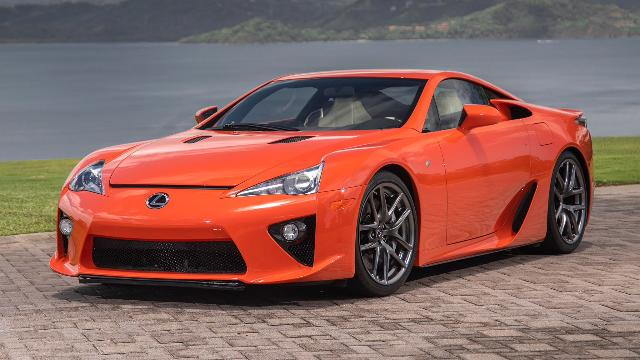lexus: (50, 70, 594, 296)
